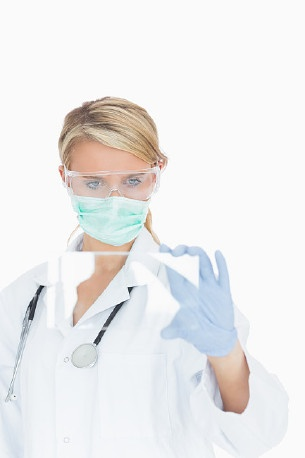Mask: (62, 156, 152, 247)
